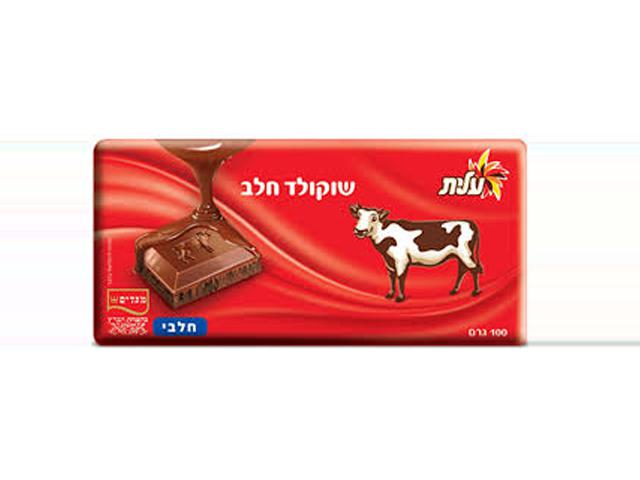chocolate: (89, 136, 530, 344)
